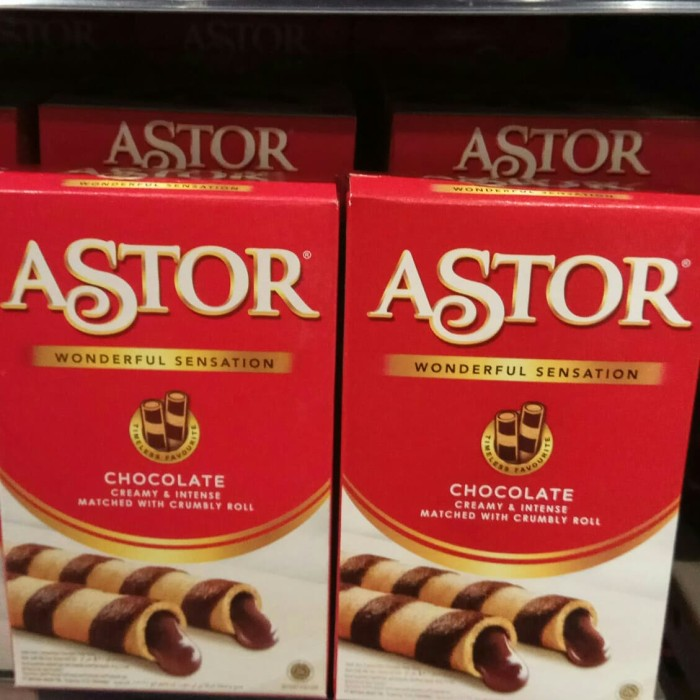Astor Chocolate (40g): (349, 171, 699, 698), (0, 171, 340, 699)
